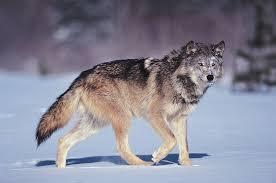Wolf: (34, 39, 225, 170)
